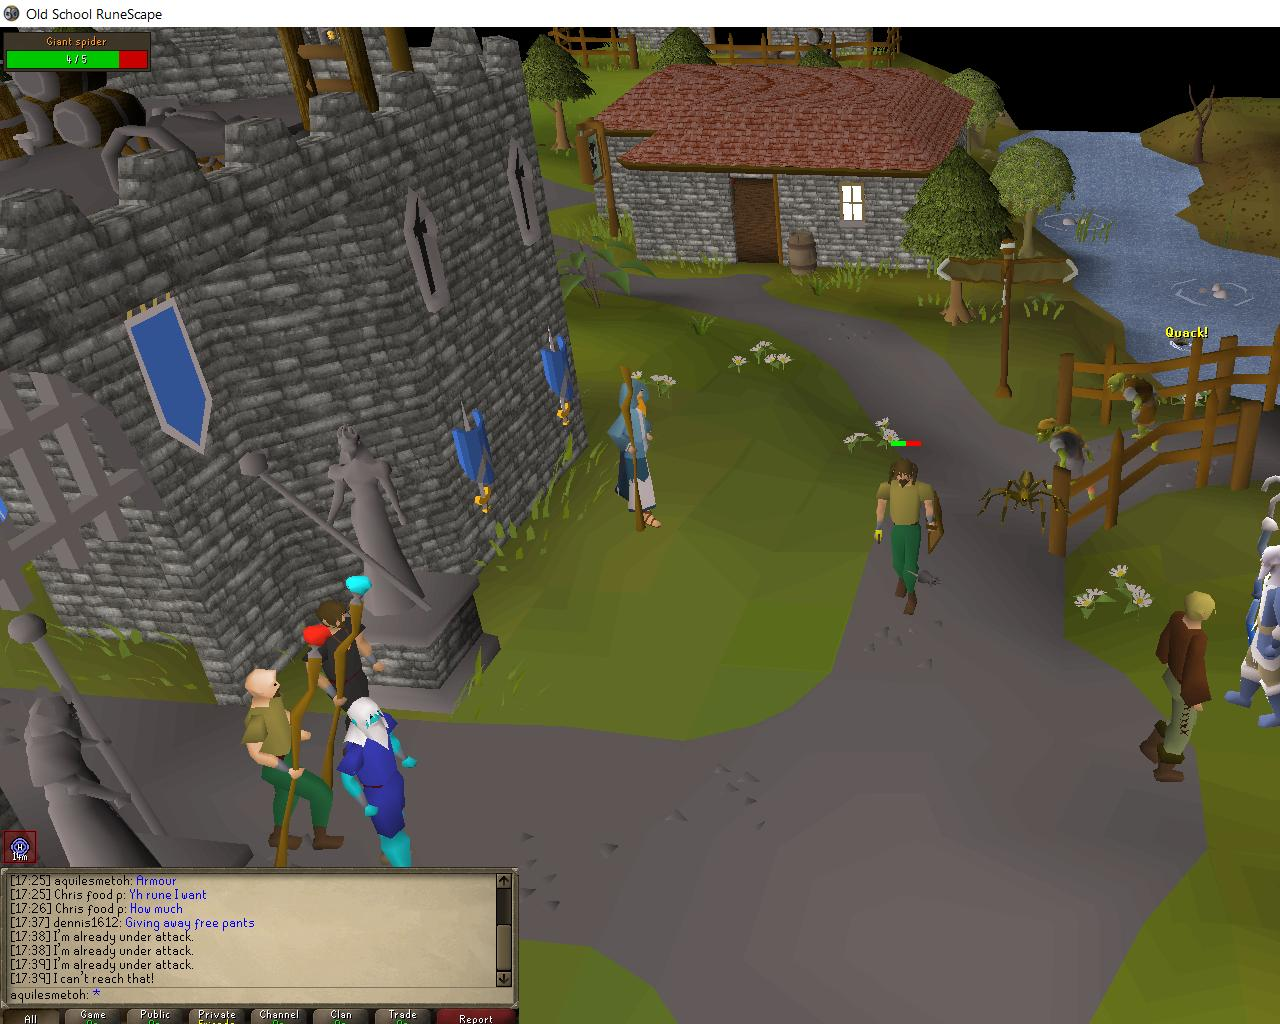Goblin: (1032, 416, 1106, 502), (1106, 372, 1176, 450)
